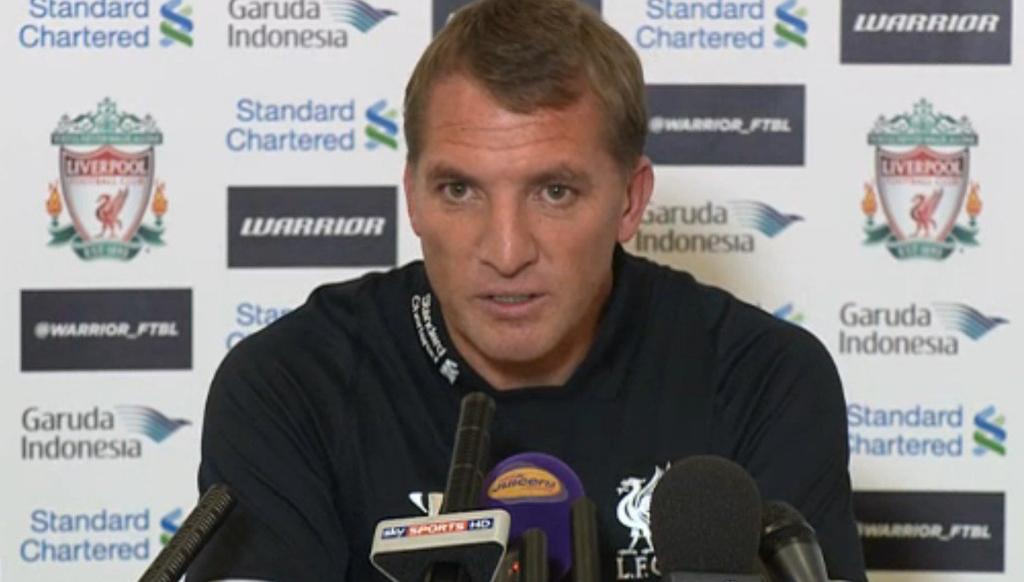face: (430, 80, 622, 362)
